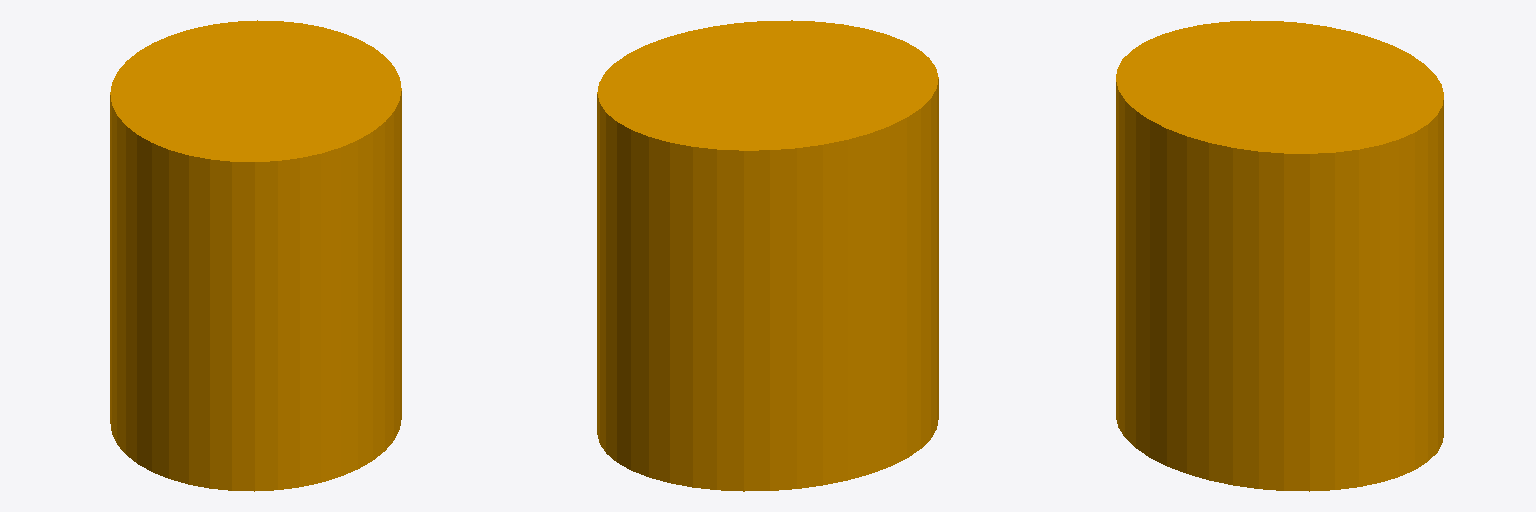
robot.urdf — object:
<?xml version="1.0"?>
<robot name="object">
  <link name="object">
    <visual>
      <origin xyz="0 0 0"/>
      <geometry>
        <mesh filename="meshes/generated/col_057.obj" scale="0.03 0.03 0.03"/>
      </geometry>
    </visual>
    <collision>
      <origin xyz="0 0 0"/>
      <geometry>
        <mesh filename="meshes/generated/col_057.obj" scale="0.03 0.03 0.03"/>
      </geometry>
    </collision>
    <inertial>
      <density value="1000.0"/>
    </inertial>
  </link>
</robot>

--- Render facts (derived) ---
The picture shows the robot from 3 angles, left to right: view 1: azimuth 30°, elevation 25°; view 2: azimuth 150°, elevation 25°; view 3: azimuth 270°, elevation 25°; orthographic projection.
Robot: object — 1 links, 0 joints (none); root link object; default pose: every joint at zero.
Links seen in each view (by area): view 1: object; view 2: object; view 3: object.
Link boxes in pixels (x1,y1,x2,y2): object: (110, 20, 401, 491); object: (597, 20, 938, 491); object: (1116, 20, 1443, 491).
Size in the robot's own frame: 0.0508 by 0.0529 by 0.06 metres.
1 mesh visuals loaded from 1 distinct referenced files (1 OBJ).
